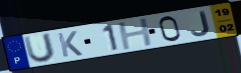0: (158, 15, 182, 43)
1: (102, 23, 120, 53)
H: (117, 16, 156, 52)
J: (190, 10, 212, 37)
K: (56, 30, 85, 59)
U: (22, 31, 58, 64)
